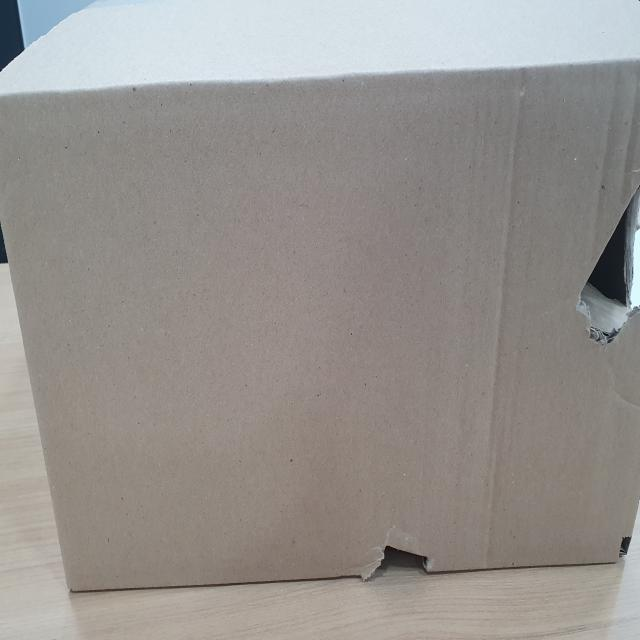hole: (575, 174, 640, 346), (366, 532, 434, 574)
